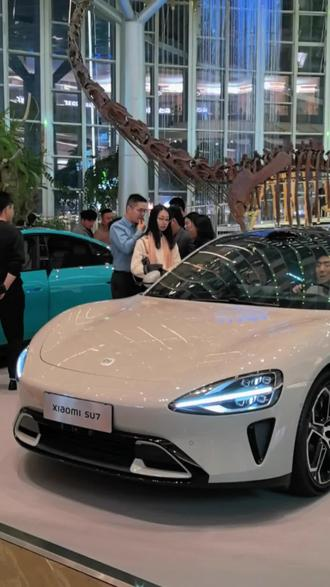su7: (16, 222, 330, 515)
